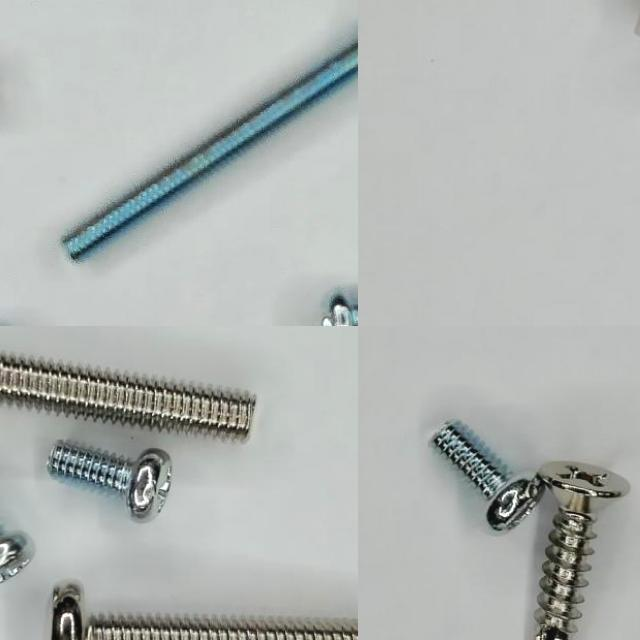Screw: (62, 42, 358, 259), (0, 353, 256, 440), (50, 584, 358, 640), (536, 462, 629, 640), (429, 421, 544, 531), (47, 441, 172, 521), (0, 533, 33, 584)
